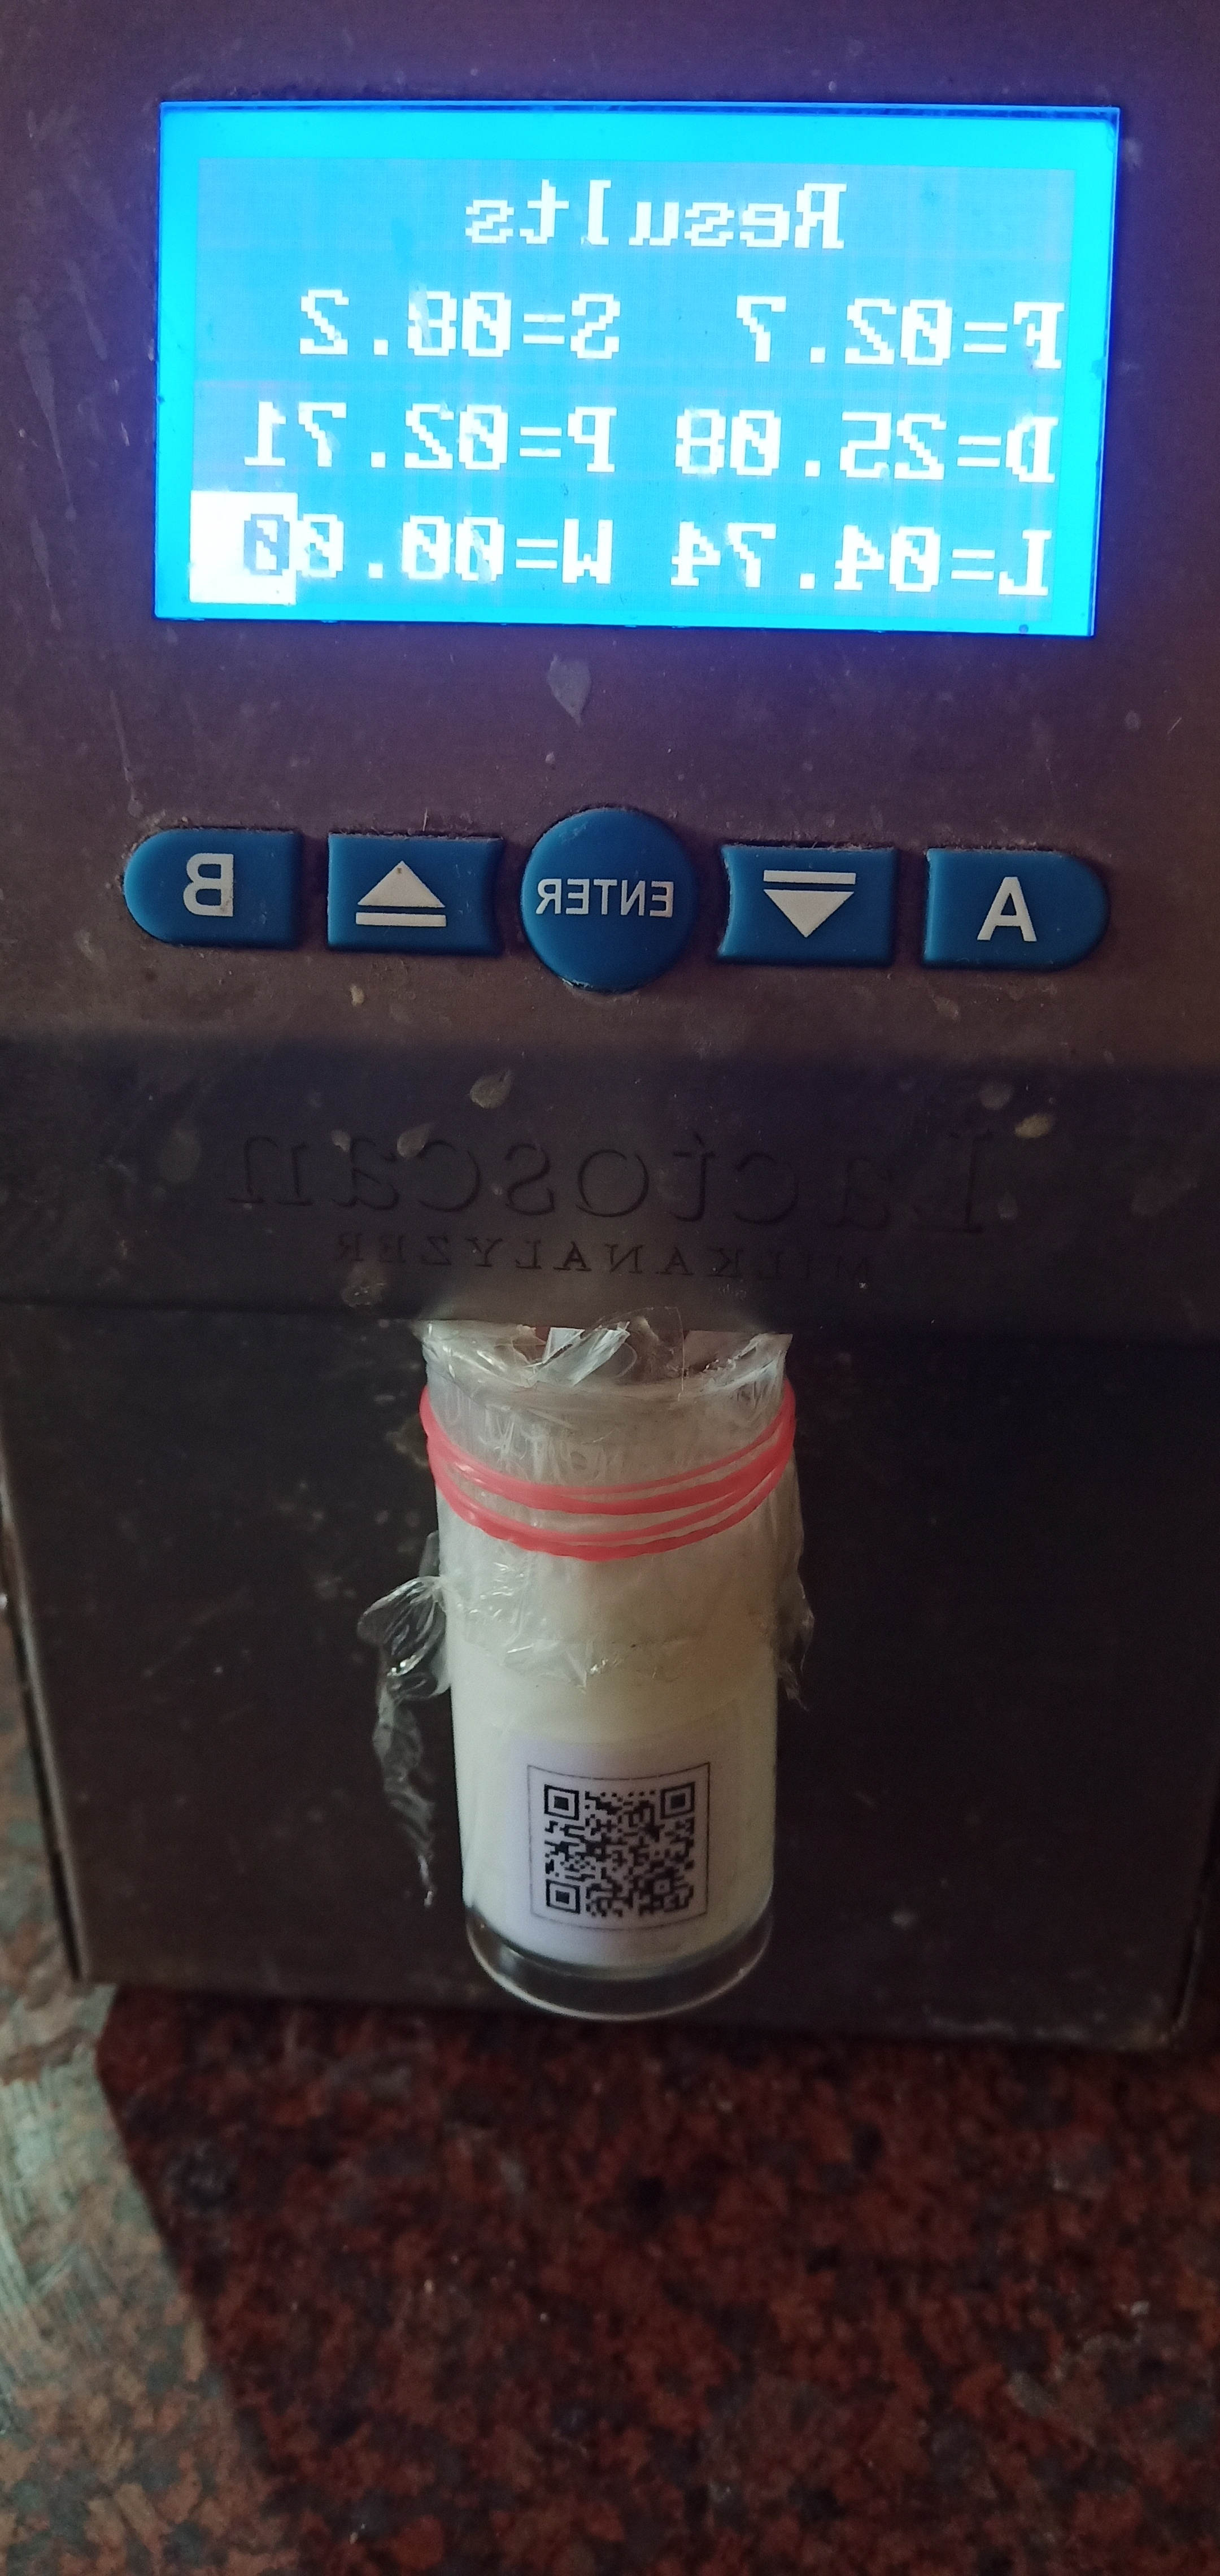lcd: (128, 77, 1156, 690)
qr: (530, 1735, 754, 1945)
